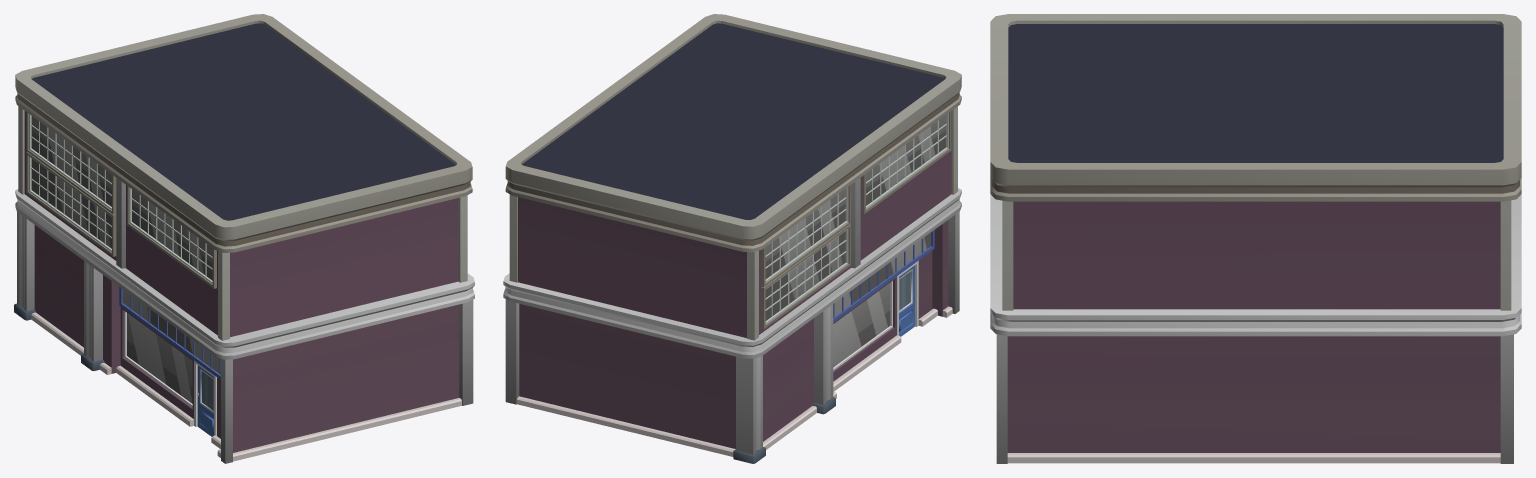
File: Building_11_3_I.glb
3 views of the same model, side by side, from view 1: azimuth 30°, elevation 25°; view 2: azimuth 150°, elevation 25°; view 3: azimuth 270°, elevation 25° (orthographic). The views are drawn at different scales.
Parts seen in each view (by area): view 1: Building_11_3_I; view 2: Building_11_3_I; view 3: Building_11_3_I.
Boxes of the visible parts, left/top/right/bottom form: Building_11_3_I: left=14, top=14, right=474, bottom=463; Building_11_3_I: left=503, top=14, right=961, bottom=463; Building_11_3_I: left=990, top=14, right=1521, bottom=463.
Size of the model in its own units: 8.14 by 7.15 by 11.63.
Materials: 3 (3 with a texture image).
